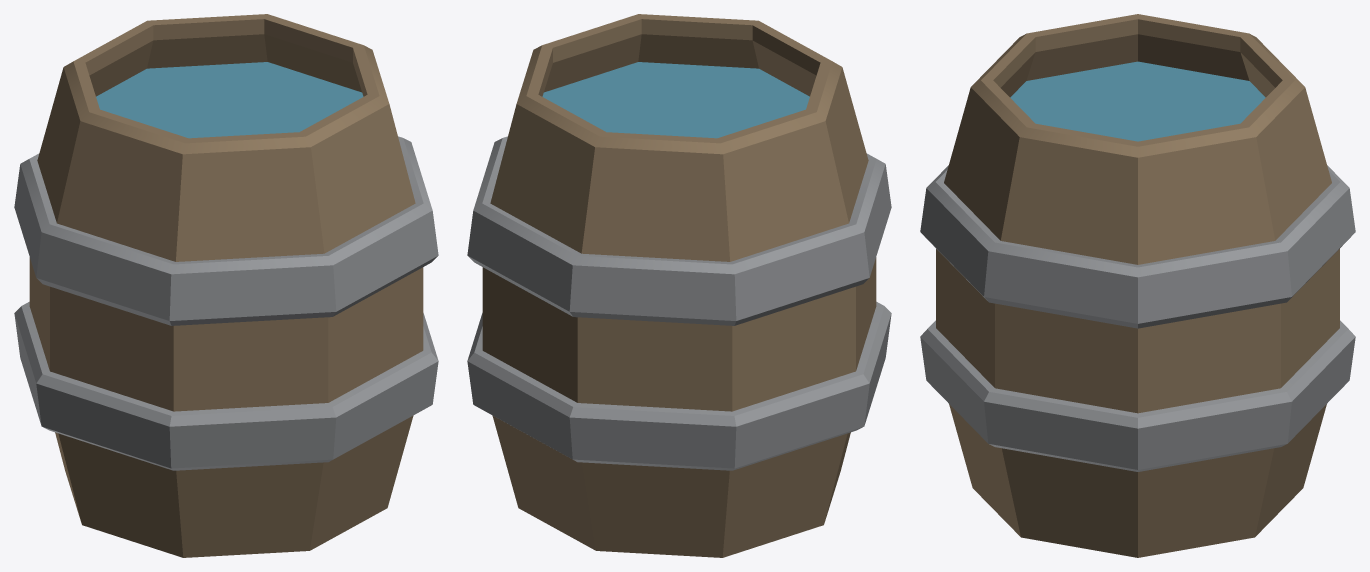
File: LargeWaterBarrel_FBX.fbx
3 renders of one model, left to right at view 1: azimuth 30°, elevation 25°; view 2: azimuth 150°, elevation 25°; view 3: azimuth 270°, elevation 25°, orthographic.
Parts seen in each view (by area): view 1: pCylinder3; view 2: pCylinder3; view 3: pCylinder3.
Part boxes in pixels (x1,y1,x2,y2): pCylinder3: (14, 14, 438, 557); pCylinder3: (467, 14, 891, 557); pCylinder3: (920, 14, 1355, 557).
Bounding box in the file's own units: 75.42 × 77.9 × 75.42.
